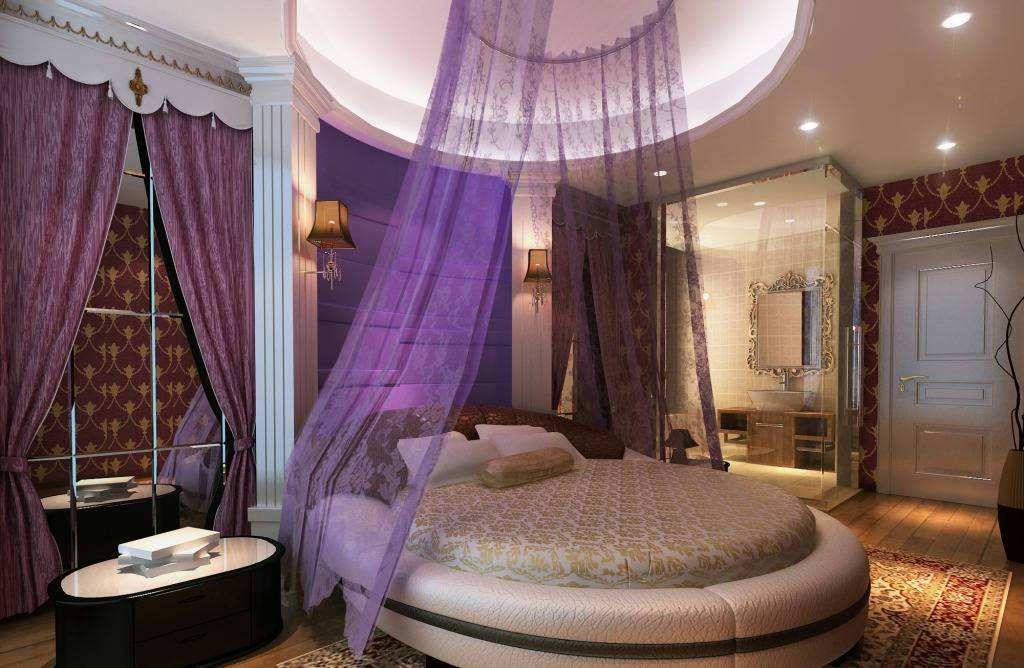床: (350, 439, 865, 660)
枕头: (397, 423, 579, 492)
灯: (307, 191, 354, 284), (522, 247, 555, 309), (936, 9, 977, 37), (796, 111, 823, 140), (935, 139, 961, 162), (649, 168, 671, 182)
